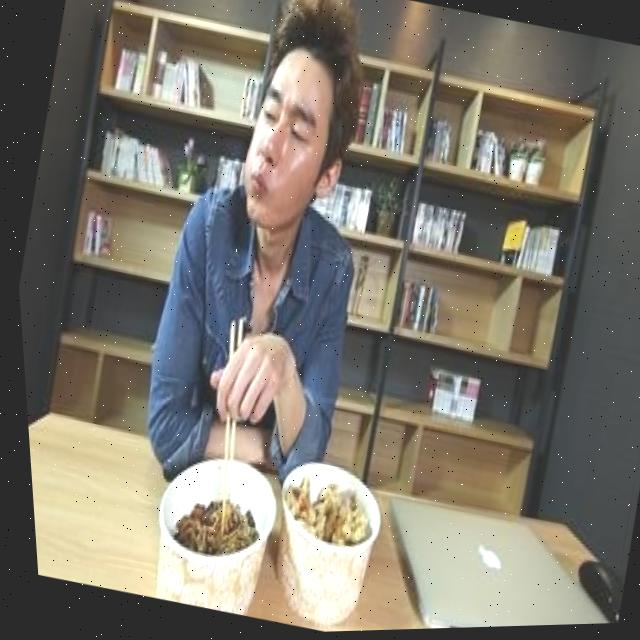eating-person: (63, 0, 503, 639)
